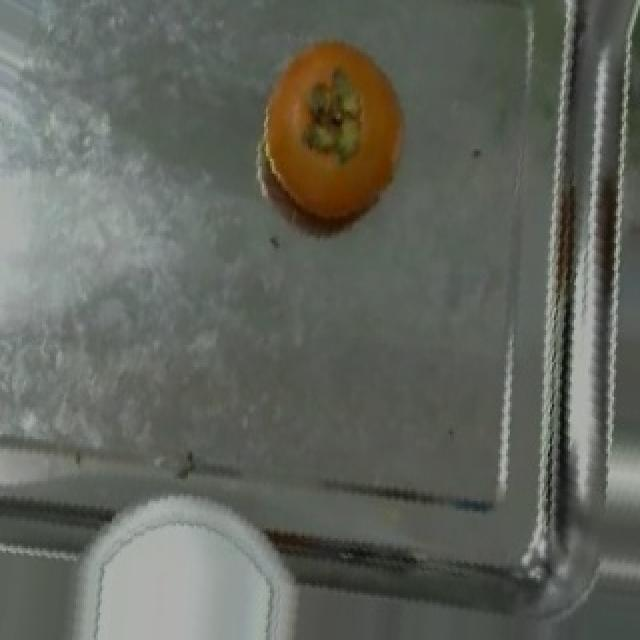Fruit: (246, 19, 426, 240), (68, 496, 288, 640)
